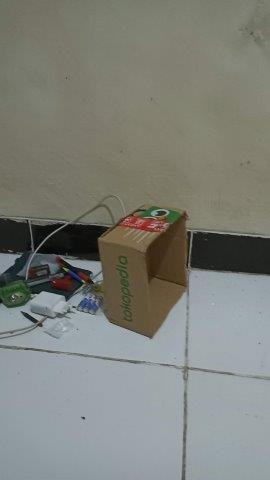kardus: (102, 203, 188, 334)
